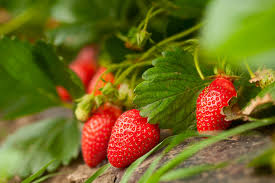ripe: (109, 105, 159, 168), (195, 73, 242, 137), (79, 98, 121, 169), (48, 54, 90, 102), (87, 64, 121, 103)
unripe: (71, 99, 99, 123)
